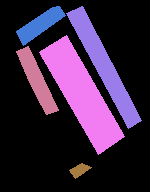parkingspot: (39, 35, 124, 154), (66, 6, 141, 128), (16, 46, 58, 114), (16, 6, 65, 45), (69, 163, 91, 178)
